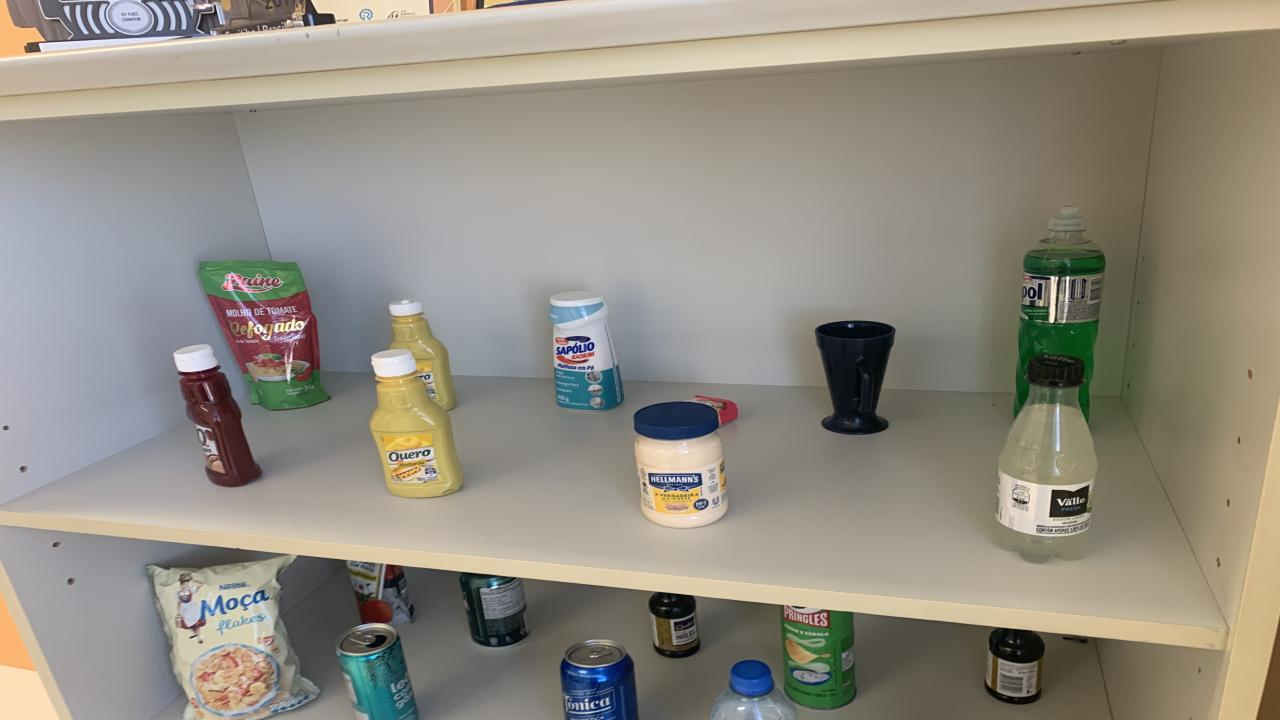Cleaner-Cleanup_Items: (550, 292, 625, 411)
Detergent-Cleanup_Items: (1015, 206, 1105, 418)
English_Sauce-Pantry_Items: (985, 628, 1045, 705), (648, 592, 700, 658)
Flakes-Snacks: (148, 555, 320, 718)
Guarana_Can-Drinks: (460, 572, 530, 647)
Ketchup-Pantry_Items: (172, 345, 260, 488)
Mayonnaise-Pantry_Items: (632, 401, 728, 529)
Mustard-Pantry_Items: (370, 349, 462, 497), (390, 300, 458, 411)
Pringles-Snacks: (780, 606, 855, 709)
Soap-Cleanup_Items: (690, 396, 738, 426)
Soda-Drinks: (995, 354, 1098, 562)
Tea-Drinks: (335, 622, 420, 720)
Tomato_Sauce-Pantry_Items: (200, 261, 330, 411), (348, 561, 415, 624)
Tonic-Drinks: (560, 639, 638, 720)
Water_Bottle-Drinks: (710, 660, 798, 720)
